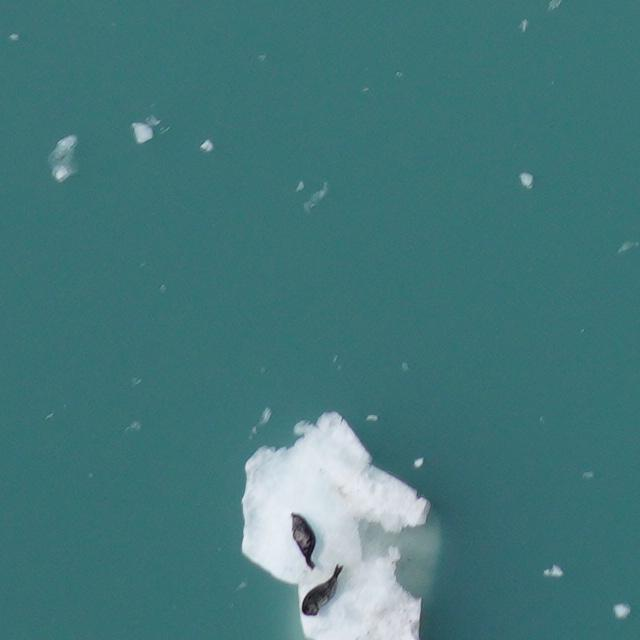seal: (295, 557, 355, 620), (285, 509, 324, 570)
